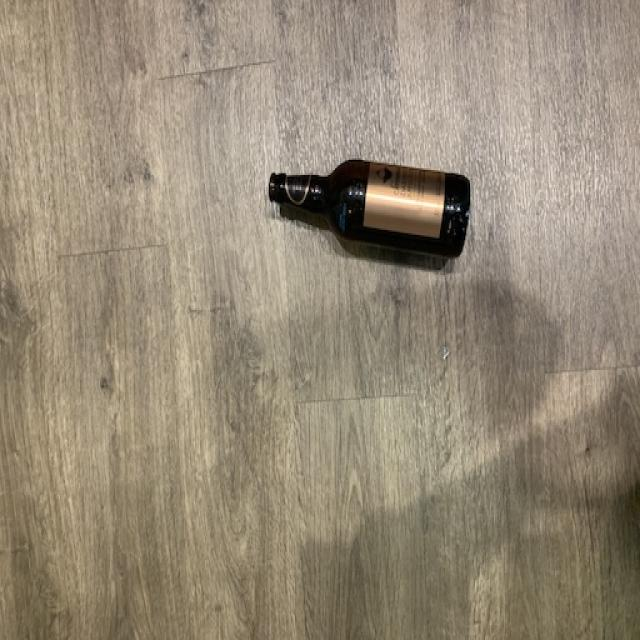litter: (266, 158, 469, 265)
